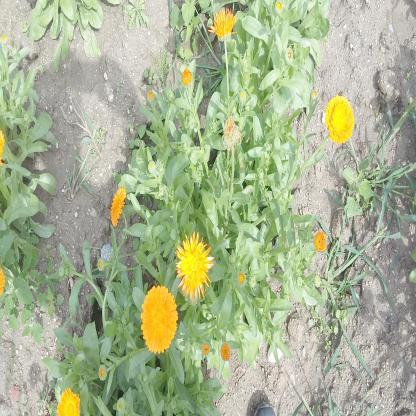marigold: (175, 230, 214, 301), (140, 285, 178, 353), (324, 93, 355, 144), (210, 6, 238, 42), (110, 186, 127, 228)
